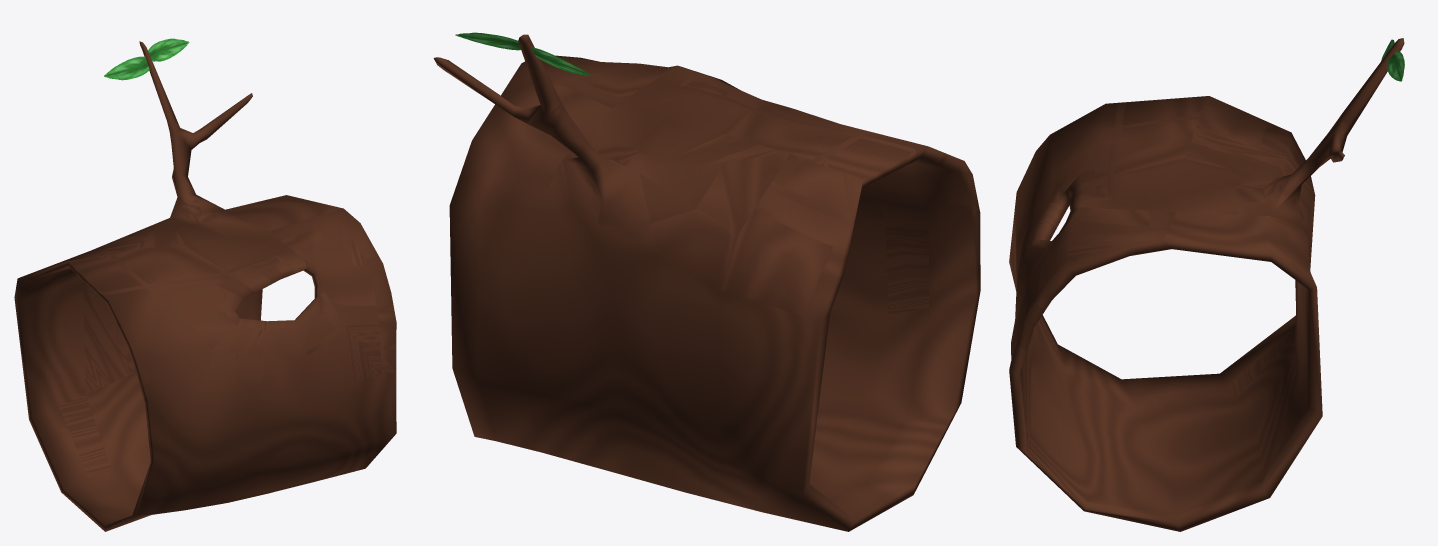
Rendered from Empty_Trunk.fbx.
The picture shows the model from 3 angles, left to right: view 1: azimuth 30°, elevation 25°; view 2: azimuth 150°, elevation 25°; view 3: azimuth 270°, elevation 25°; orthographic projection. The views are drawn at different scales.
Parts seen in each view (by area): view 1: Trunk_Low; view 2: Trunk_Low; view 3: Trunk_Low.
Part boxes in pixels (x1,y1,x2,y2): Trunk_Low: (14,38,396,531); Trunk_Low: (433,32,980,531); Trunk_Low: (1009,38,1404,531).
Size of the model in its own units: 2.27 by 2.97 by 2.48.
